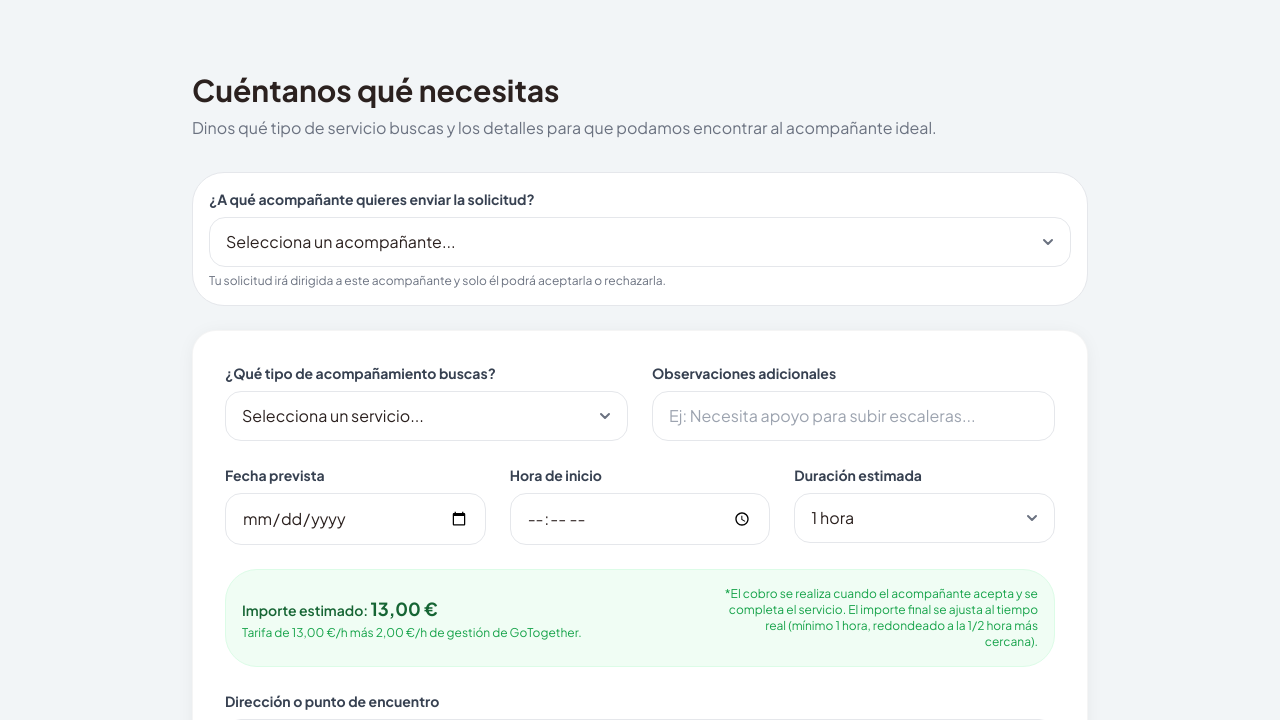
Scenario: SolicitudPage › enables submit once a companion is picked from the list
Select "Carlos · Málaga" in the dropdown labelled "¿A qué acompañante quieres enviar la solicitud?" at x=640, y=242, box x1=209 y1=217 x2=1071 y2=267
(page scrolled)
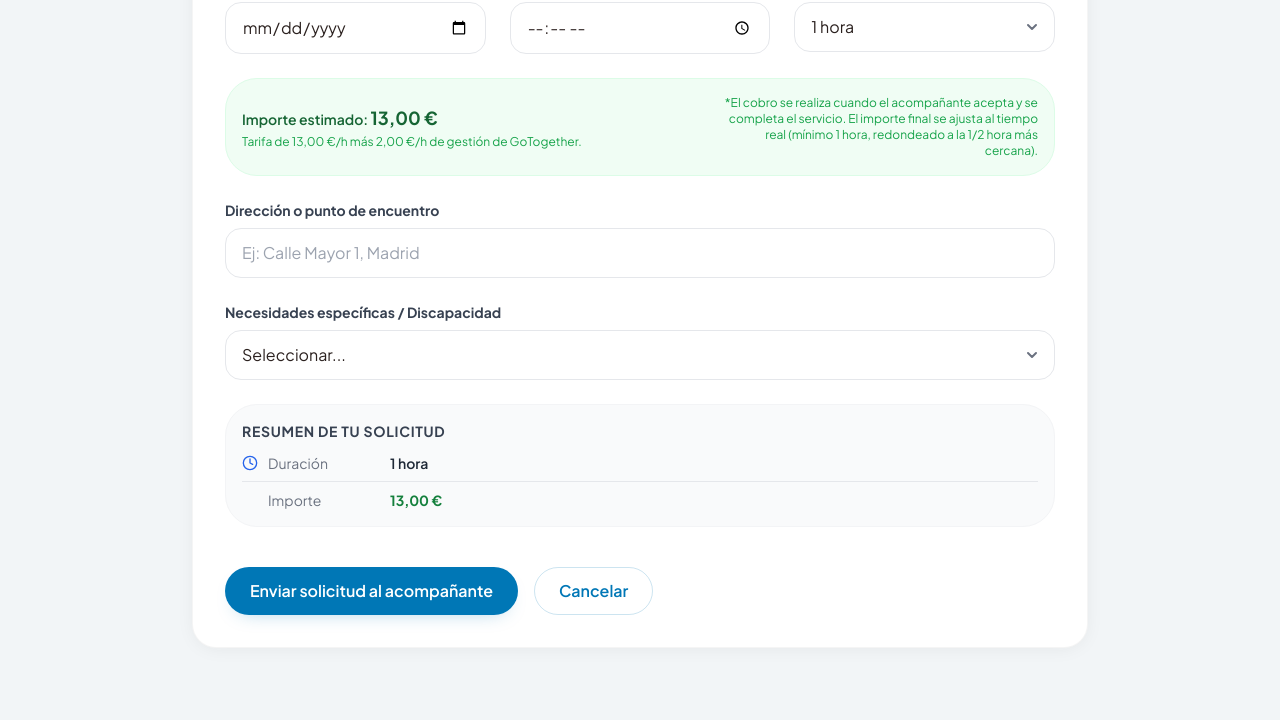
Expected: the button "Enviar solicitud al acompañante" is enabled, x1=225 y1=567 x2=518 y2=615
